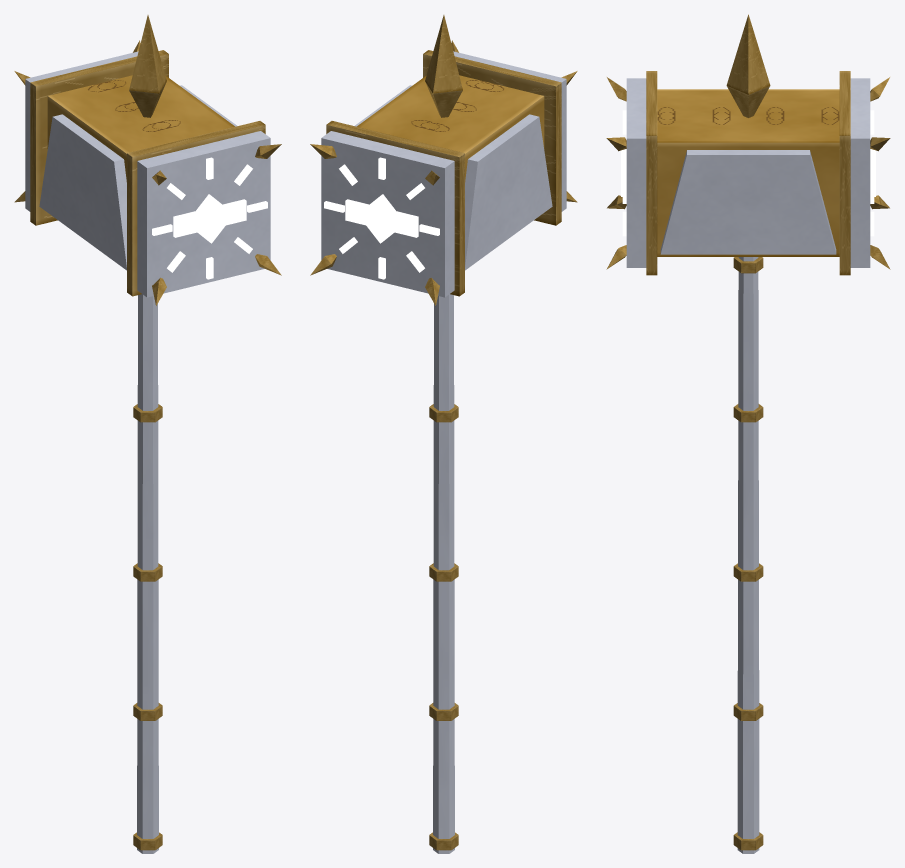
File: EyeWarhammer.fbx
3 renders of one model, left to right at view 1: azimuth 30°, elevation 25°; view 2: azimuth 150°, elevation 25°; view 3: azimuth 270°, elevation 25°, orthographic.
Visible parts, largest first — view 1: Head, Handle, Glow; view 2: Head, Handle, Glow; view 3: Head, Handle, Glow.
Boxes of the visible parts, x1,y1,x2,y2 form: Head: [14, 15, 281, 305]; Handle: [133, 294, 162, 853]; Glow: [152, 157, 267, 279]; Head: [310, 15, 577, 305]; Handle: [429, 294, 458, 853]; Glow: [324, 157, 439, 279]; Head: [606, 14, 890, 275]; Handle: [733, 257, 763, 853]; Glow: [621, 110, 875, 236].
Bounding box in the file's own units: 140 × 840 × 259.
2 materials, 1 textured.
